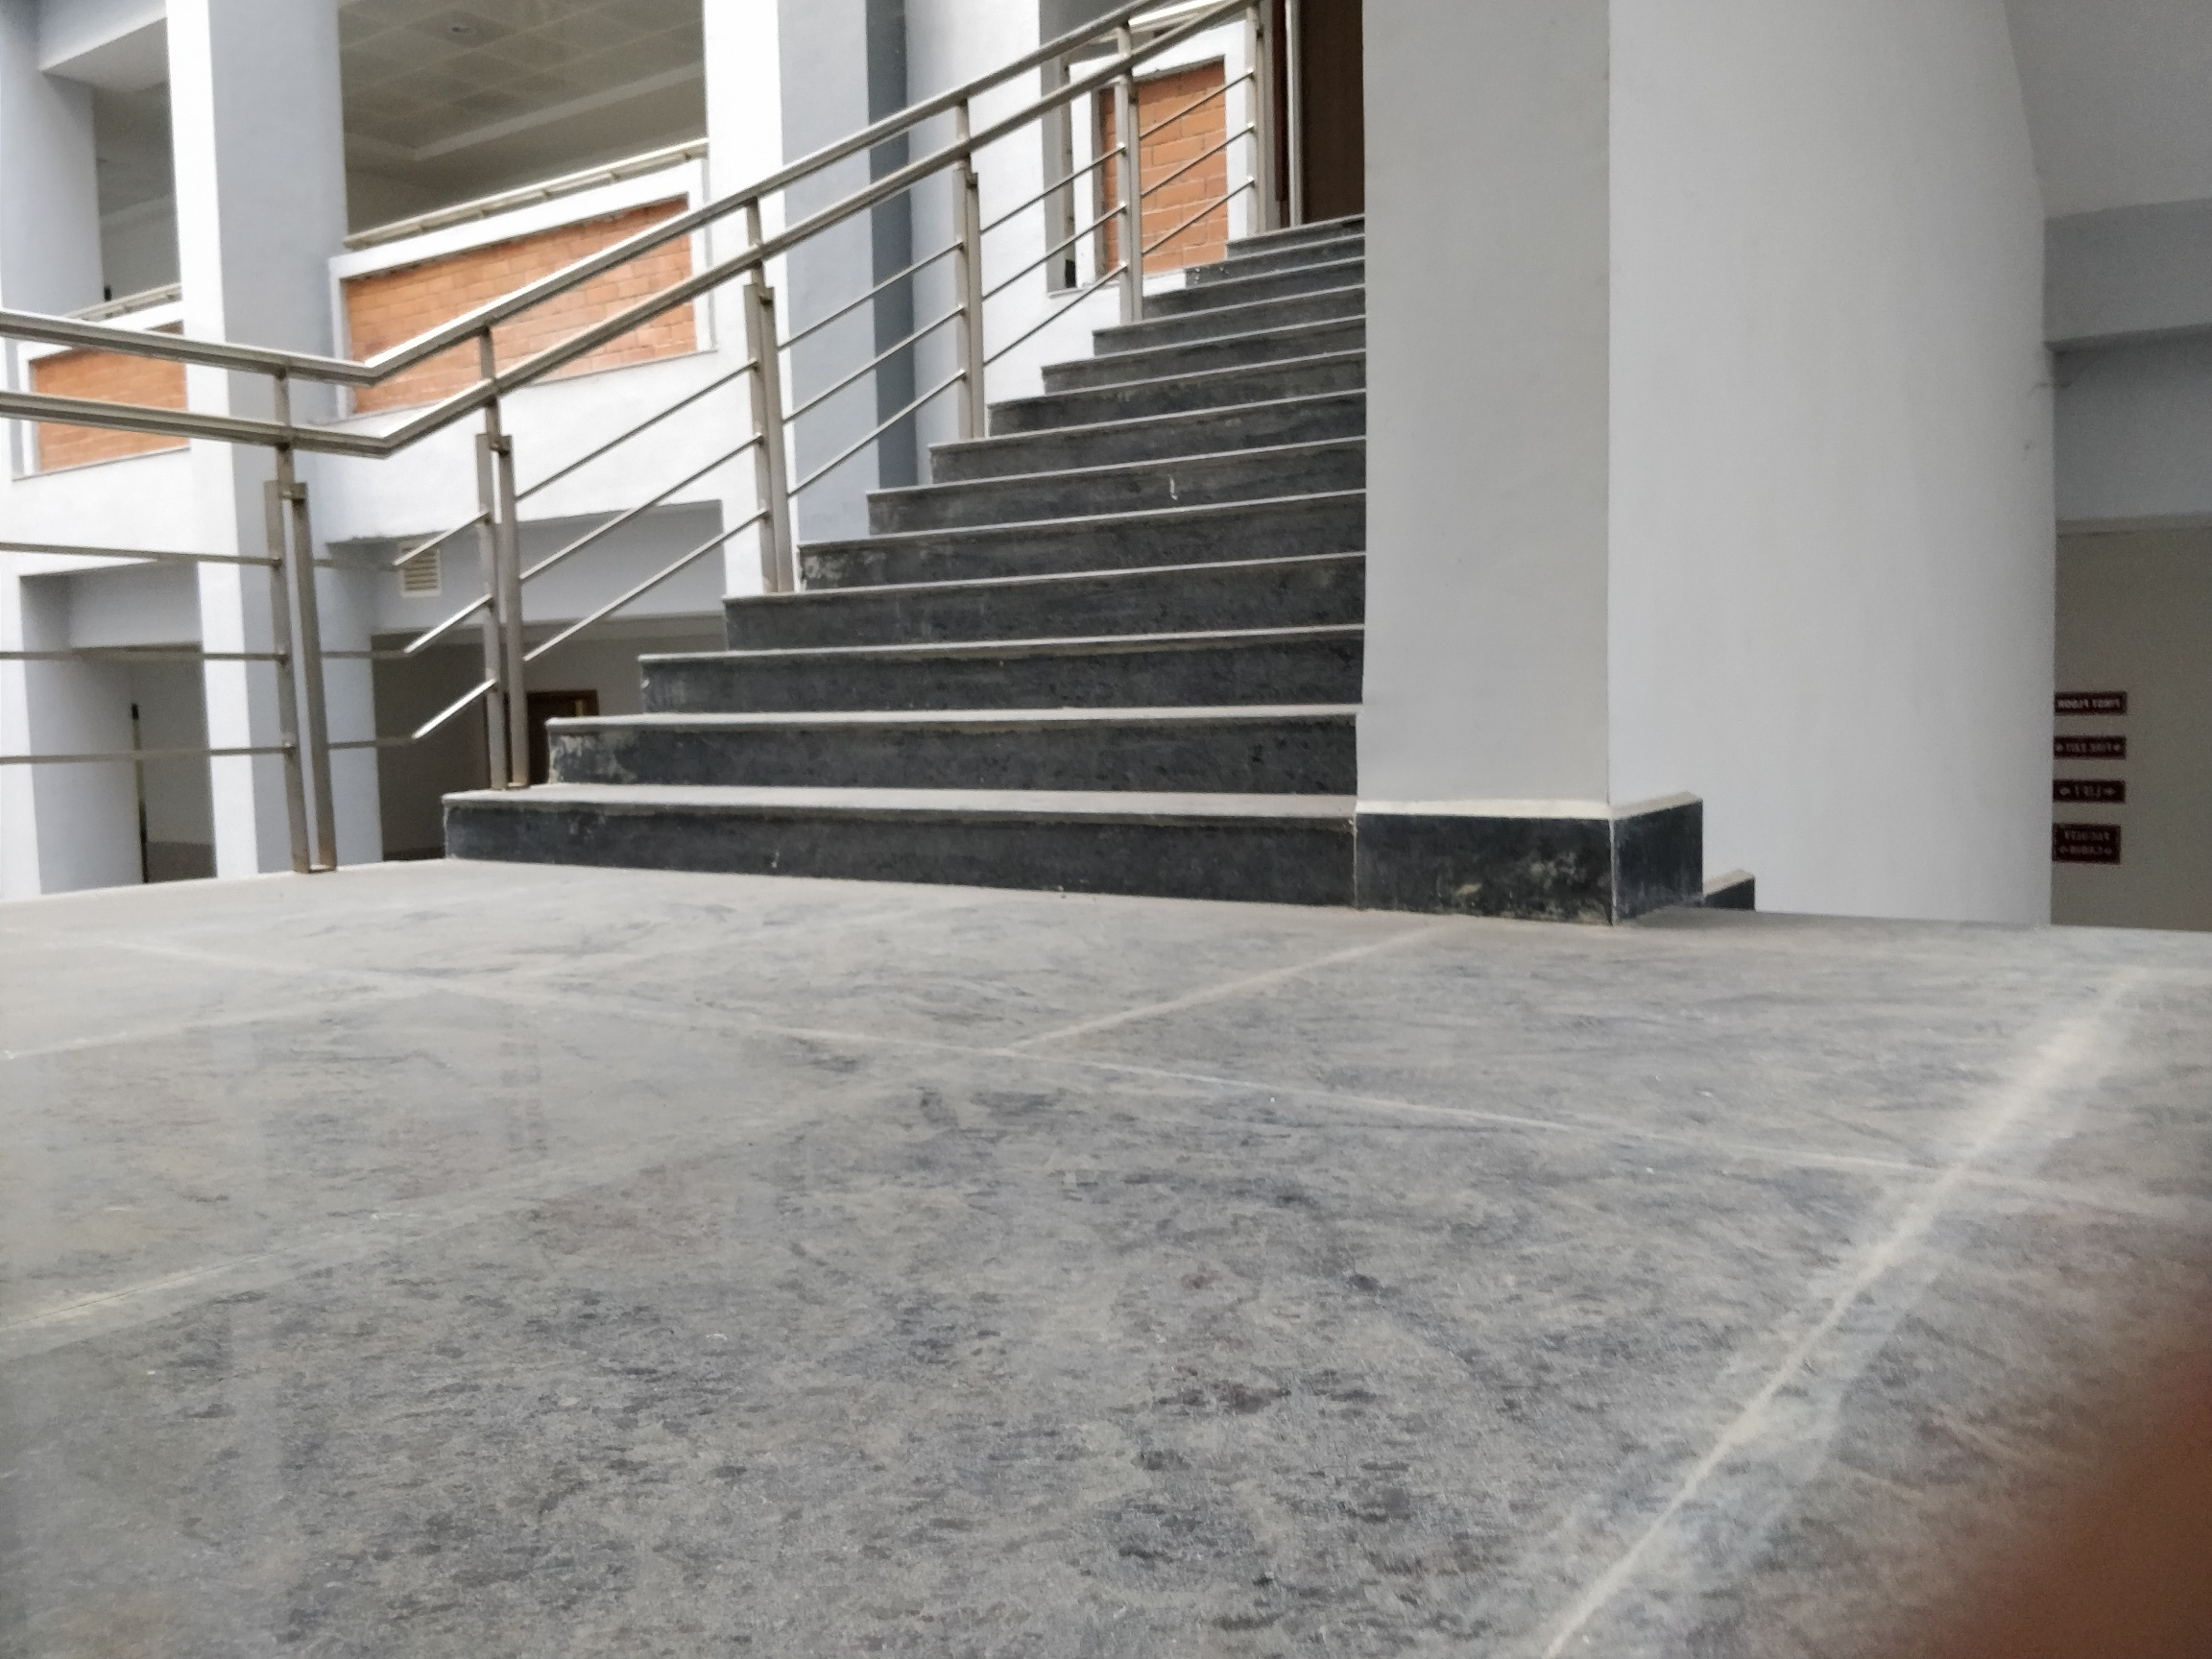stairs_up: (366, 202, 1359, 892)
